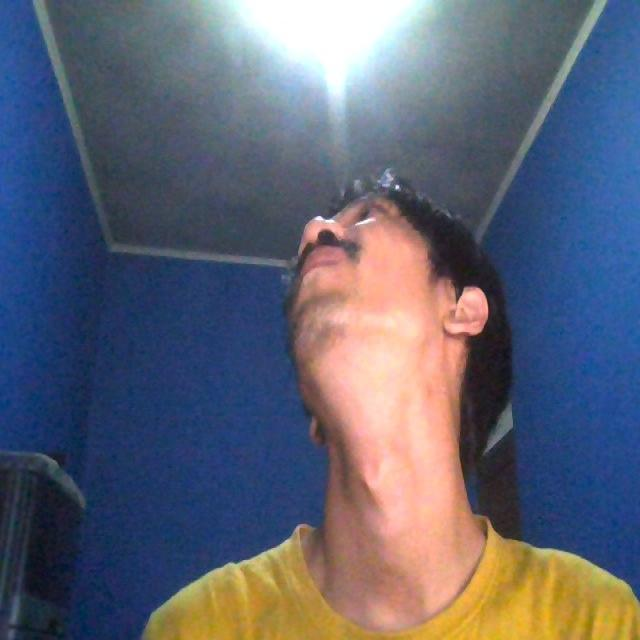Melihat keatas: (265, 168, 539, 474)
